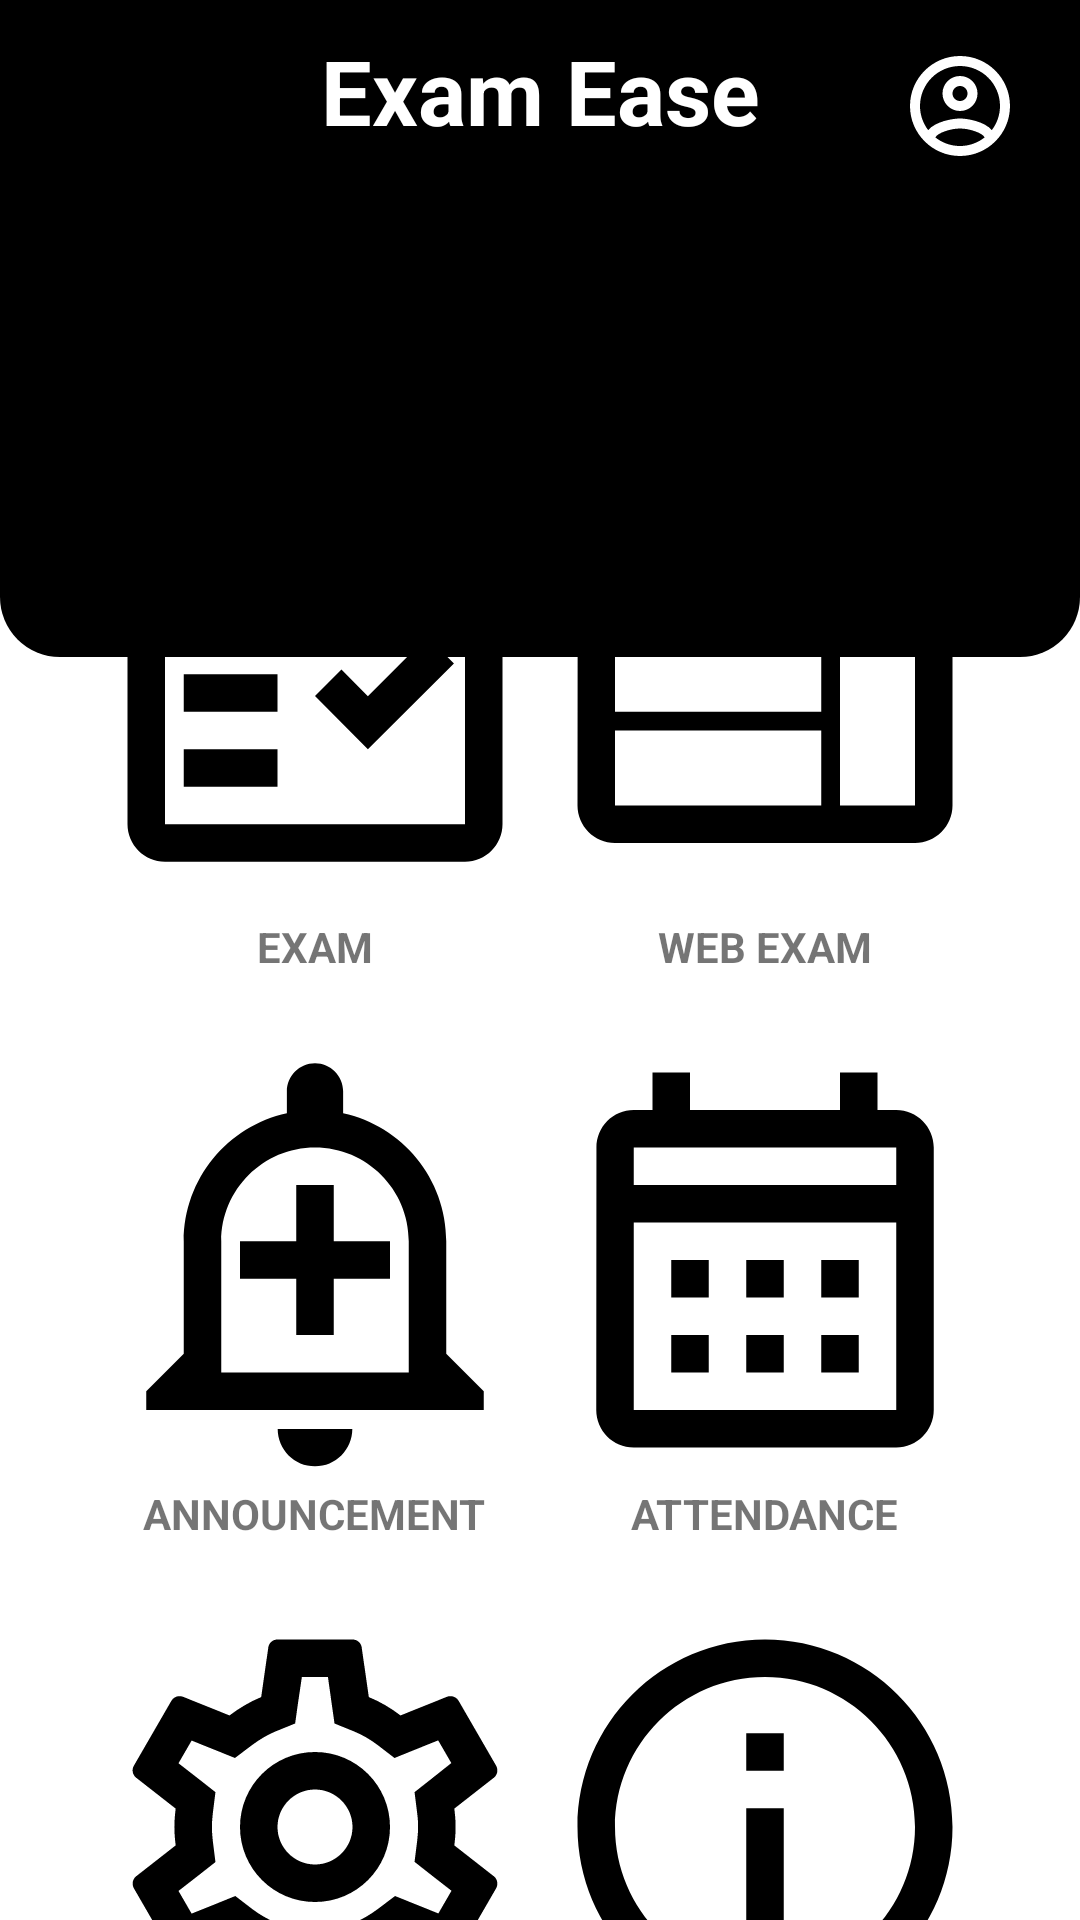

Named icons in this screenshot (1080 x 1920) and their centers, [x,y]:
user profile: [960,106]
